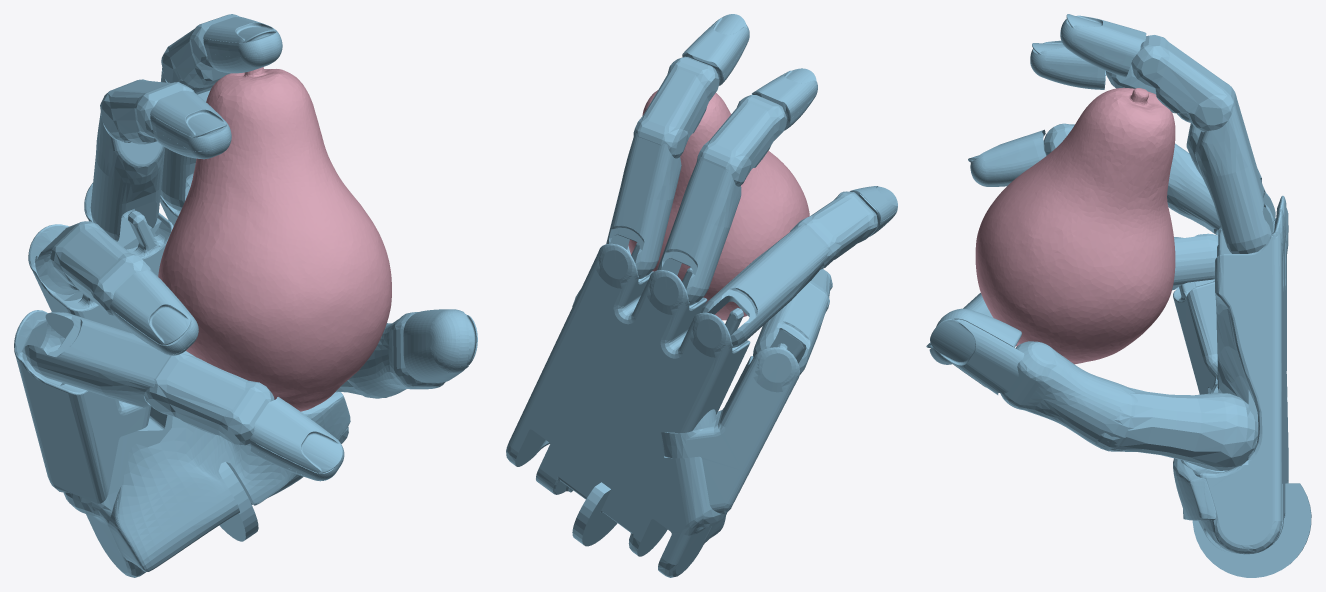
The picture shows the model from 3 angles, left to right: view 1: azimuth 30°, elevation 25°; view 2: azimuth 150°, elevation 25°; view 3: azimuth 270°, elevation 25°; orthographic projection. The views are drawn at different scales.
Visible parts, largest first — view 1: world, pear.stl; view 2: world, pear.stl; view 3: world, pear.stl.
Boxes of the visible parts, x1,y1,x2,y2 form: world: (14, 14, 477, 577); pear.stl: (158, 67, 391, 411); world: (506, 14, 897, 577); pear.stl: (628, 90, 809, 320); world: (926, 14, 1311, 577); pear.stl: (975, 87, 1175, 364).
Size of the model in its own units: 0.1174 by 0.1979 by 0.1265.
